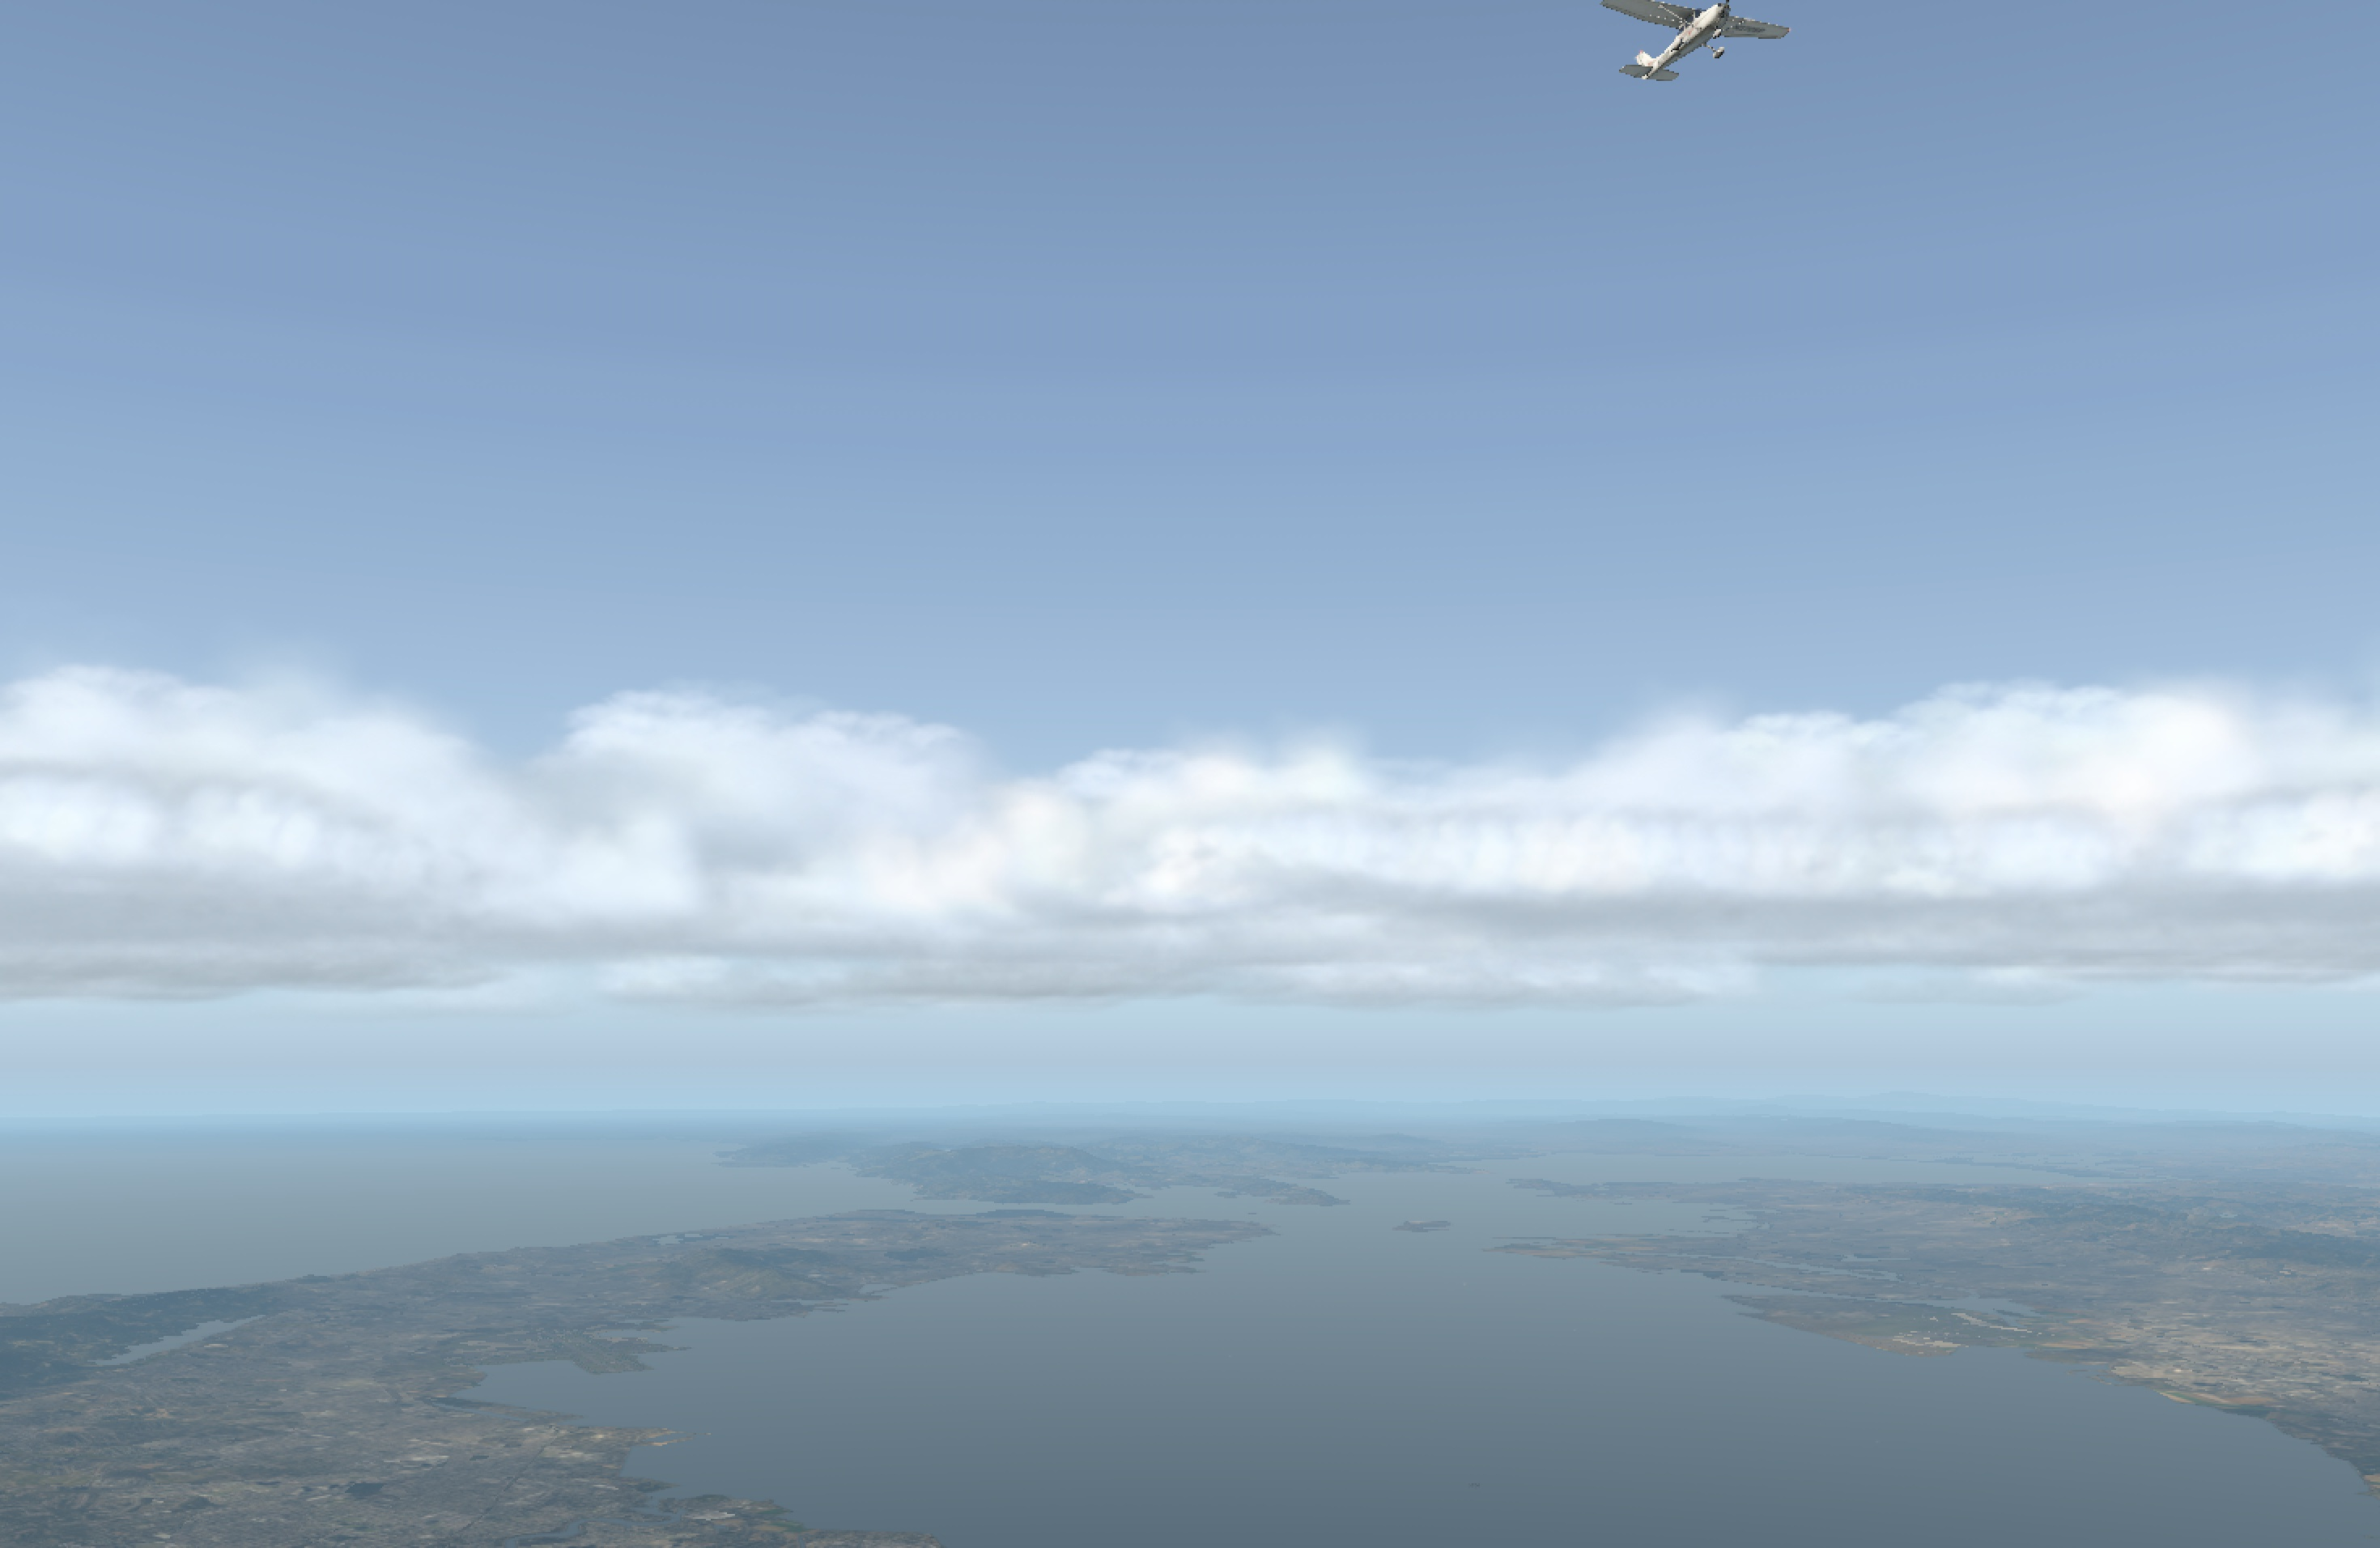aircraft: (1629, 0, 1771, 52)
